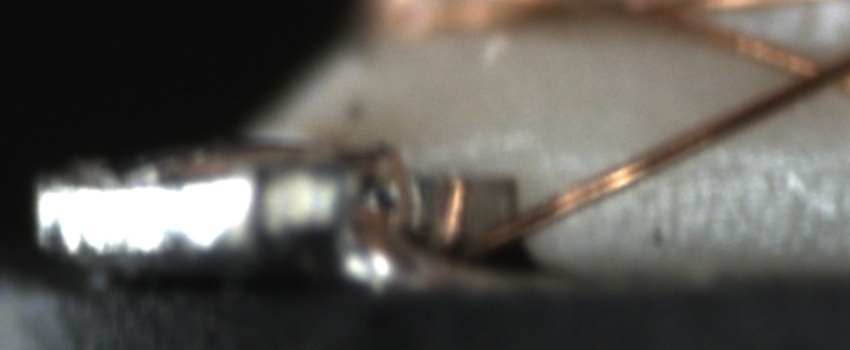DL: (613, 138, 849, 188)
TE: (364, 148, 472, 253)
